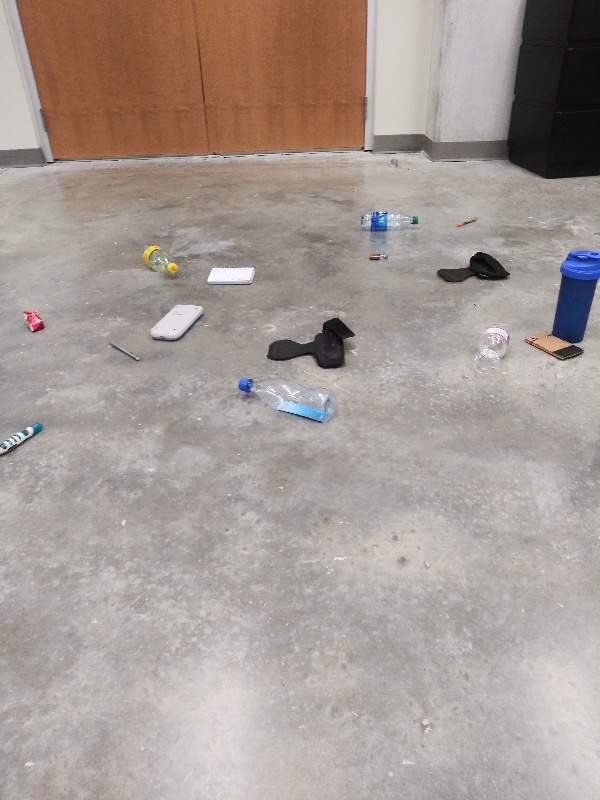bottle: (234, 374, 339, 424), (471, 317, 521, 379), (135, 240, 184, 280), (356, 207, 421, 234)
